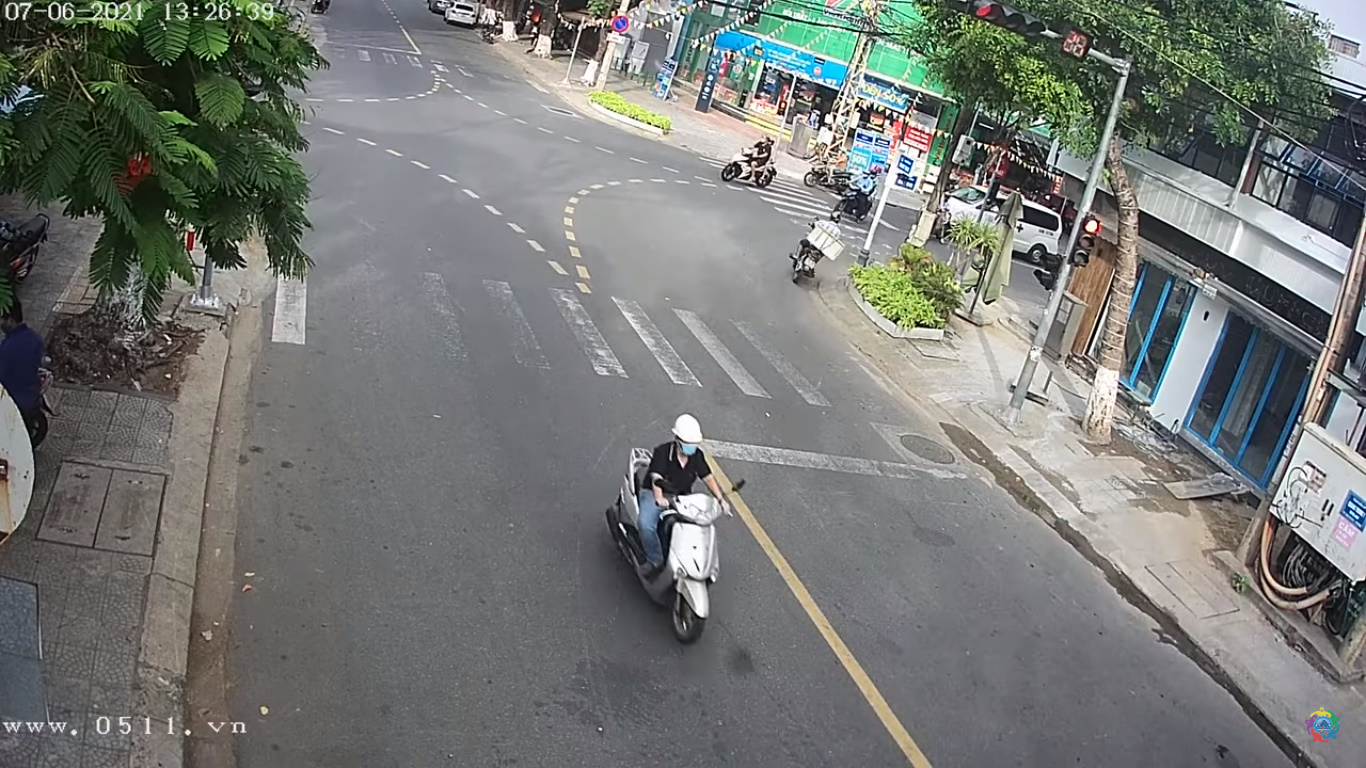motorbike: (614, 408, 737, 639)
